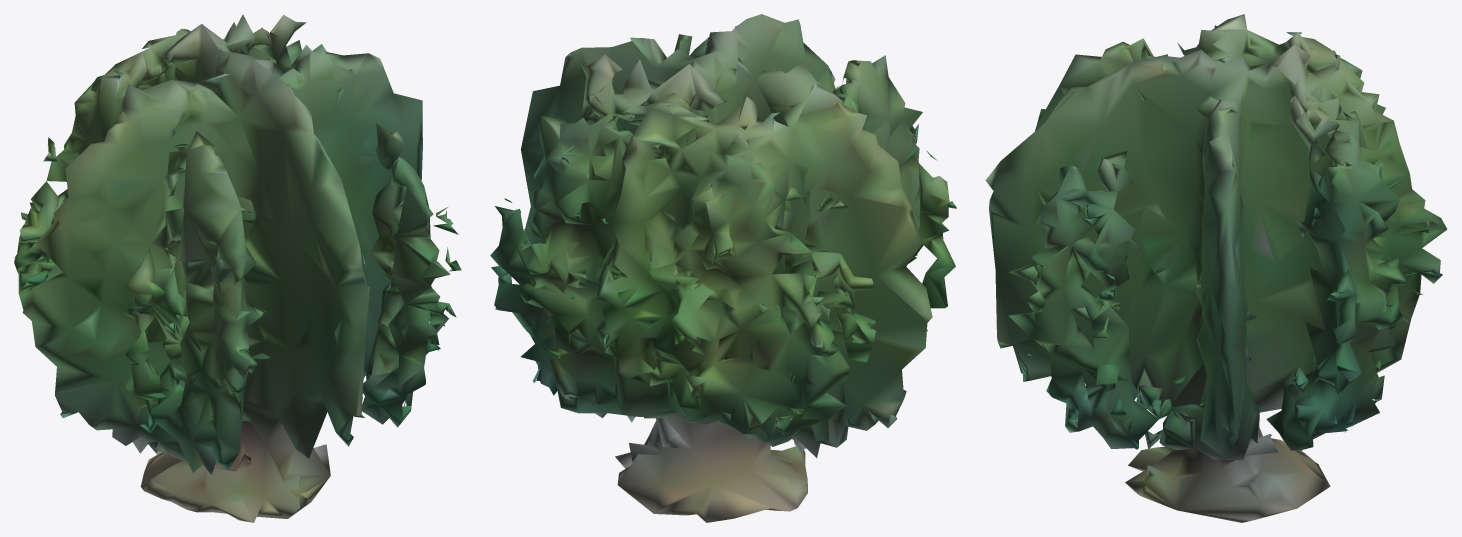
Rendered from fantasy_bush_1787078968444.glb.
The picture shows the model from 3 angles, left to right: view 1: azimuth 30°, elevation 25°; view 2: azimuth 150°, elevation 25°; view 3: azimuth 270°, elevation 25°; orthographic projection. The views are drawn at different scales.
Bounding box in the file's own units: 0.9492 × 0.9793 × 0.9237.
